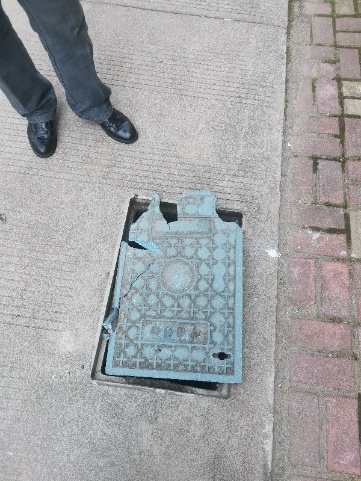broke: (91, 190, 244, 404)
